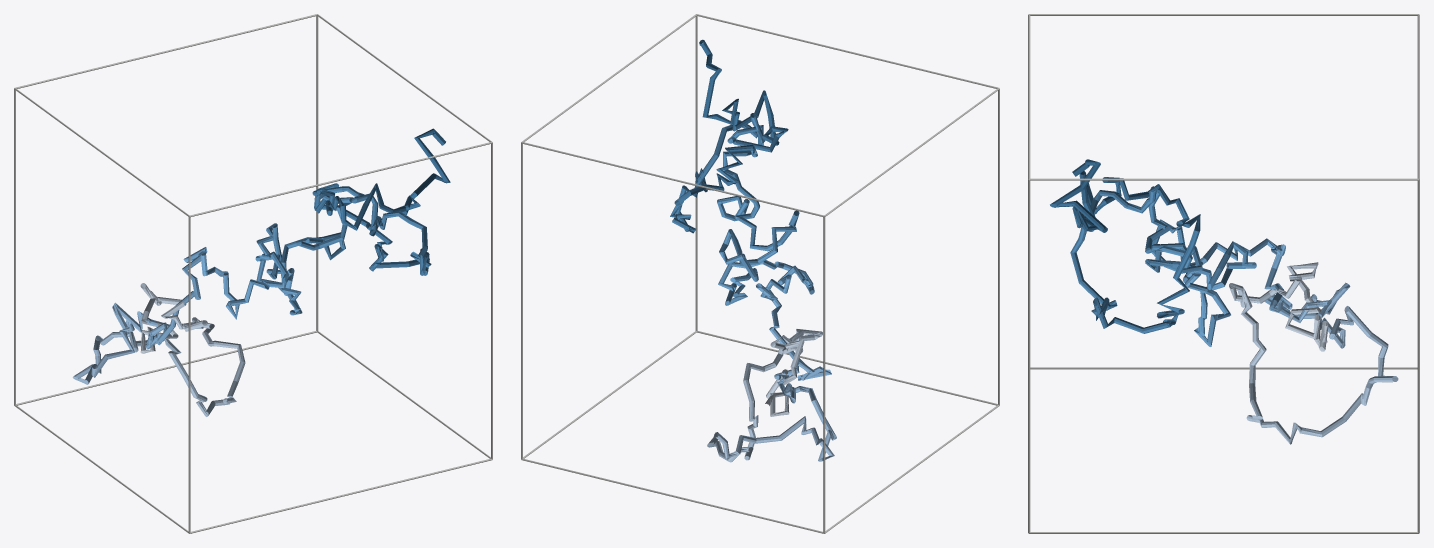
The picture shows the model from 3 angles, left to right: view 1: azimuth 30°, elevation 25°; view 2: azimuth 150°, elevation 25°; view 3: azimuth 270°, elevation 25°; orthographic projection. The views are drawn at different scales.
Parts seen in each view (by area): view 1: geometry_0, geometry_1; view 2: geometry_0, geometry_1; view 3: geometry_0, geometry_1.
Boxes of the visible parts, <box> form: geometry_0: <box>72,128,450,416</box>; geometry_1: <box>14,14,492,533</box>; geometry_0: <box>670,39,836,462</box>; geometry_1: <box>521,14,999,533</box>; geometry_0: <box>1050,159,1398,444</box>; geometry_1: <box>1028,14,1419,533</box>.
Bounding box in the file's own units: 0.3016 × 0.3047 × 0.3016.
